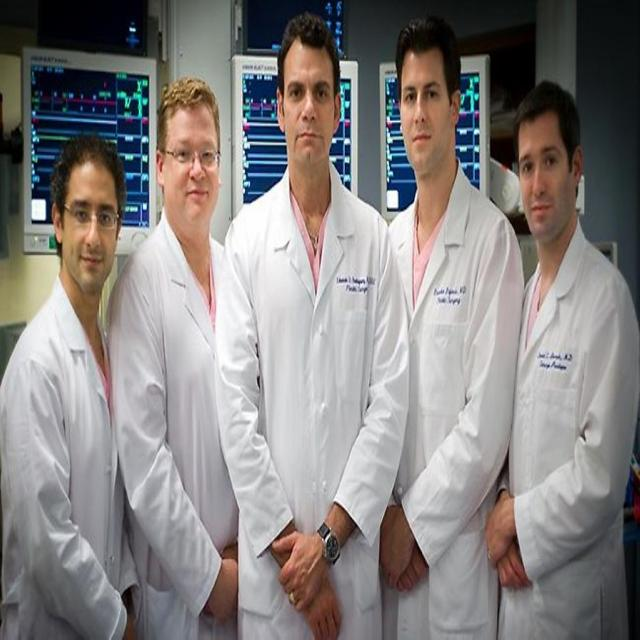nomask: (67, 160, 116, 293), (285, 42, 336, 166), (165, 105, 215, 226), (518, 122, 568, 233), (402, 51, 448, 166)
